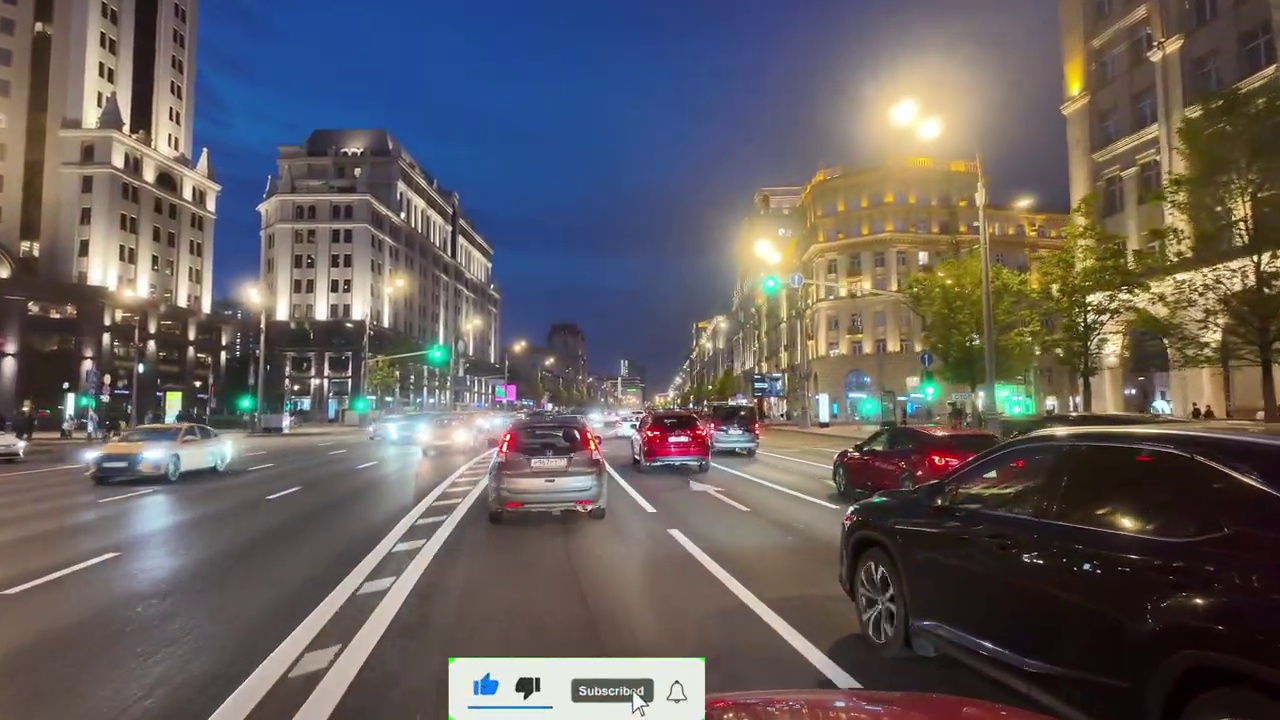acesa: (883, 92, 947, 145), (747, 235, 789, 268), (241, 283, 269, 312), (385, 273, 411, 300), (462, 315, 485, 337), (510, 337, 530, 358), (0, 352, 12, 383)
